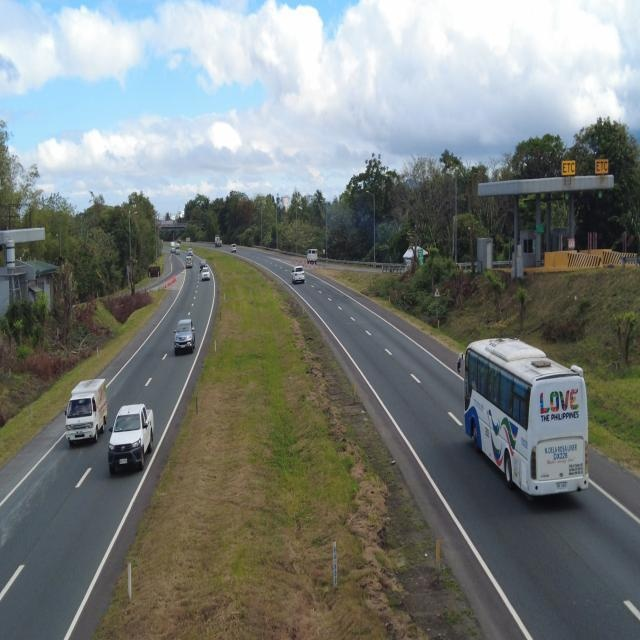Bus: (448, 329, 601, 511)
